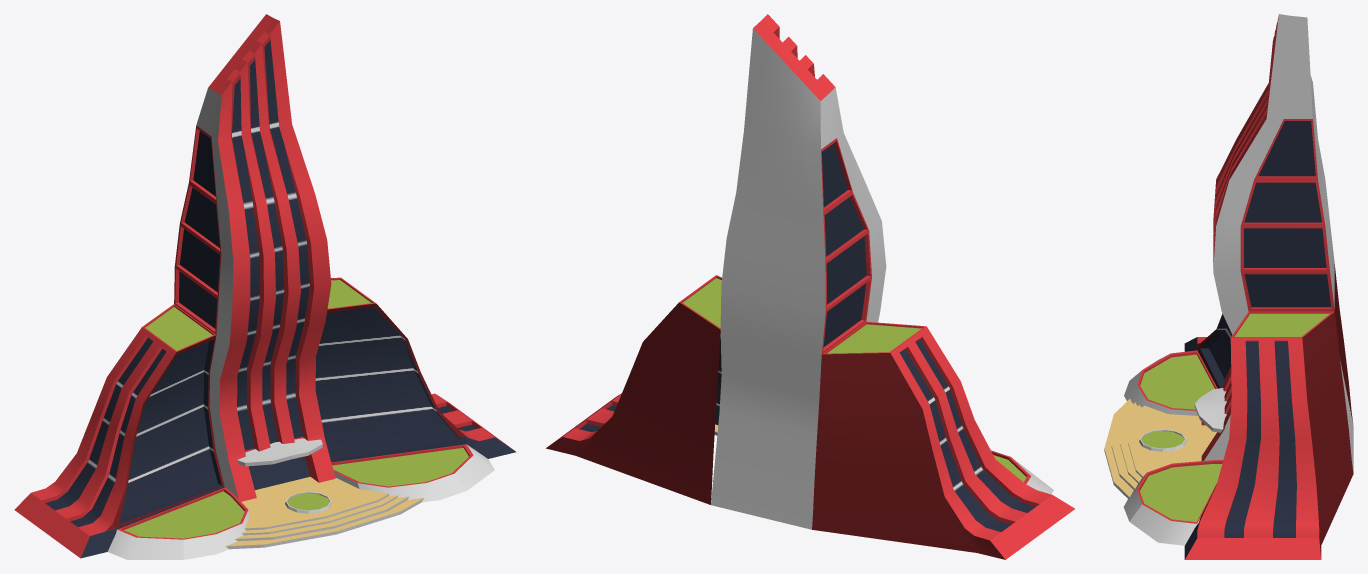
Rendered from Tx_Building_Con_Red_03.fbx.
3 renders of one model, left to right at view 1: azimuth 30°, elevation 25°; view 2: azimuth 150°, elevation 25°; view 3: azimuth 270°, elevation 25°, orthographic. The views are drawn at different scales.
Parts seen in each view (by area): view 1: Middle_Buidling, Side_Buidling_Left, Side_Buidling_Right, Side_Buidling_Left_Base, Side_Buidling_Right_Base, Stair, Stair3, Middle_Buidling_Roof, Stair2, Stair1, Middle_Building_Grass; view 2: Middle_Buidling, Side_Buidling_Left, Side_Buidling_Right, Side_Buidling_Left_Base; view 3: Side_Buidling_Right, Middle_Buidling, Side_Buidling_Right_Base, Side_Buidling_Left_Base, Stair, Side_Buidling_Left, Middle_Buidling_Roof, Stair3, Middle_Building_Grass, Stair2, Stair1.
Part boxes in pixels (x1,y1,x2,y2): Middle_Buidling: (174, 14, 335, 501); Side_Buidling_Left: (14, 304, 224, 558); Side_Buidling_Right: (315, 277, 515, 462); Side_Buidling_Left_Base: (107, 487, 250, 559); Side_Buidling_Right_Base: (331, 444, 494, 502); Stair: (241, 476, 389, 530); Stair3: (225, 498, 423, 549); Middle_Buidling_Roof: (237, 438, 322, 466); Stair2: (235, 496, 409, 541); Stair1: (241, 495, 398, 535); Middle_Building_Grass: (285, 491, 331, 513); Middle_Buidling: (711, 14, 886, 529); Side_Buidling_Left: (812, 321, 1074, 559); Side_Buidling_Right: (546, 275, 721, 504); Side_Buidling_Left_Base: (991, 450, 1053, 494); Side_Buidling_Right: (1184, 311, 1353, 559); Middle_Buidling: (1201, 14, 1353, 473); Side_Buidling_Right_Base: (1123, 460, 1223, 545); Side_Buidling_Left_Base: (1124, 350, 1217, 415); Stair: (1128, 405, 1216, 477); Side_Buidling_Left: (1184, 264, 1353, 423); Middle_Buidling_Roof: (1194, 388, 1226, 432); Stair3: (1104, 399, 1133, 498); Middle_Building_Grass: (1139, 429, 1186, 451); Stair2: (1111, 402, 1137, 489); Stair1: (1120, 405, 1141, 483).
Size of the model in its own units: 89.39 by 86.9 by 43.46.
